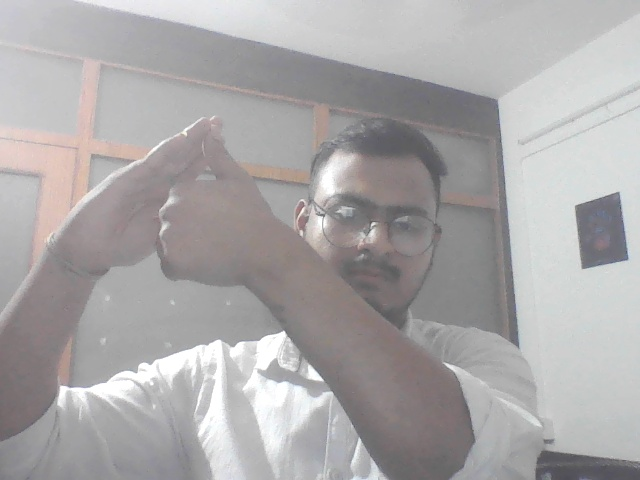I Feel You: (77, 107, 276, 321)
